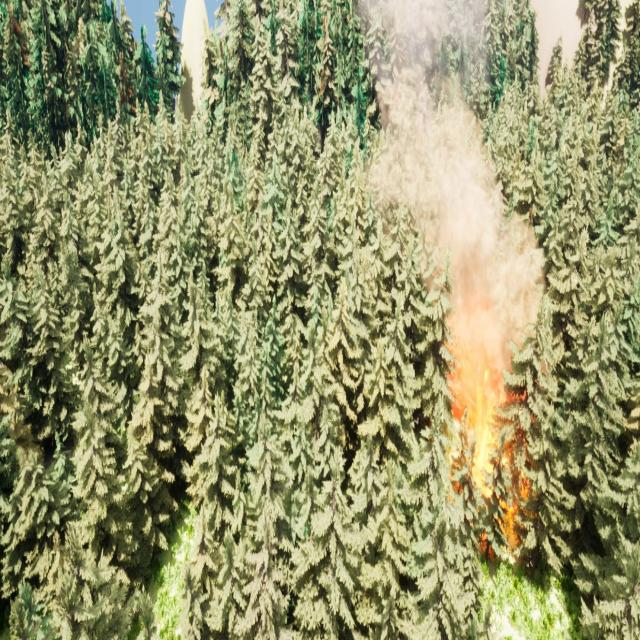fire: (452, 370, 534, 555)
smoke: (356, 0, 550, 368)
